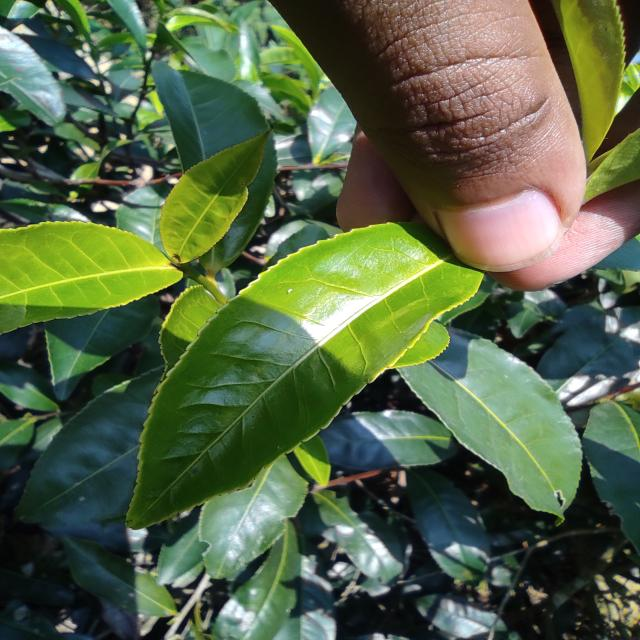Category C(4-7 days): (114, 206, 502, 542)
